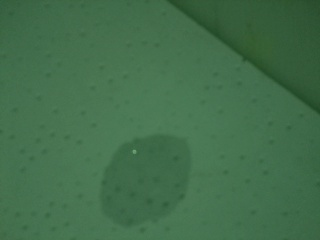Water_detected: (106, 148, 181, 213)
